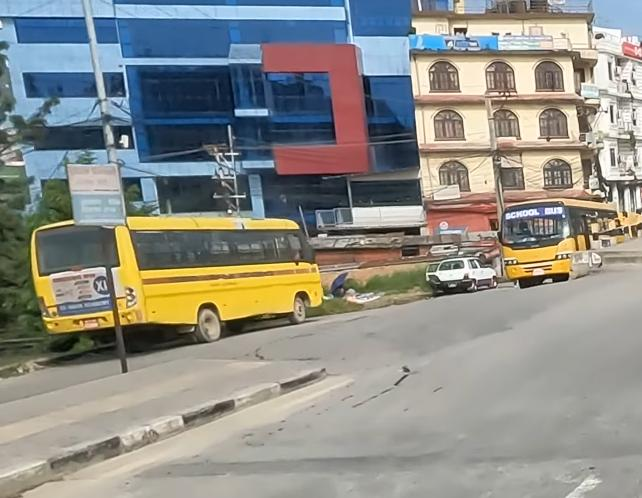school_bus: (22, 209, 332, 346), (493, 196, 629, 289)
taxi: (429, 256, 501, 294)
